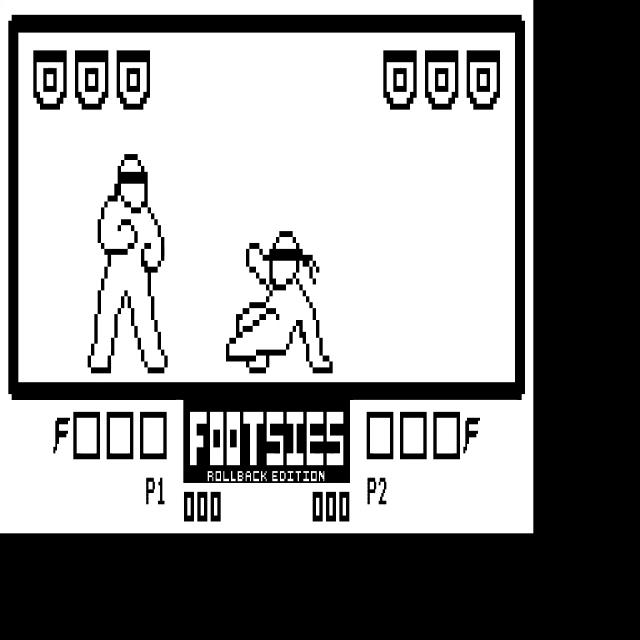Idle: (74, 148, 177, 378)
Kick: (223, 225, 334, 375)
